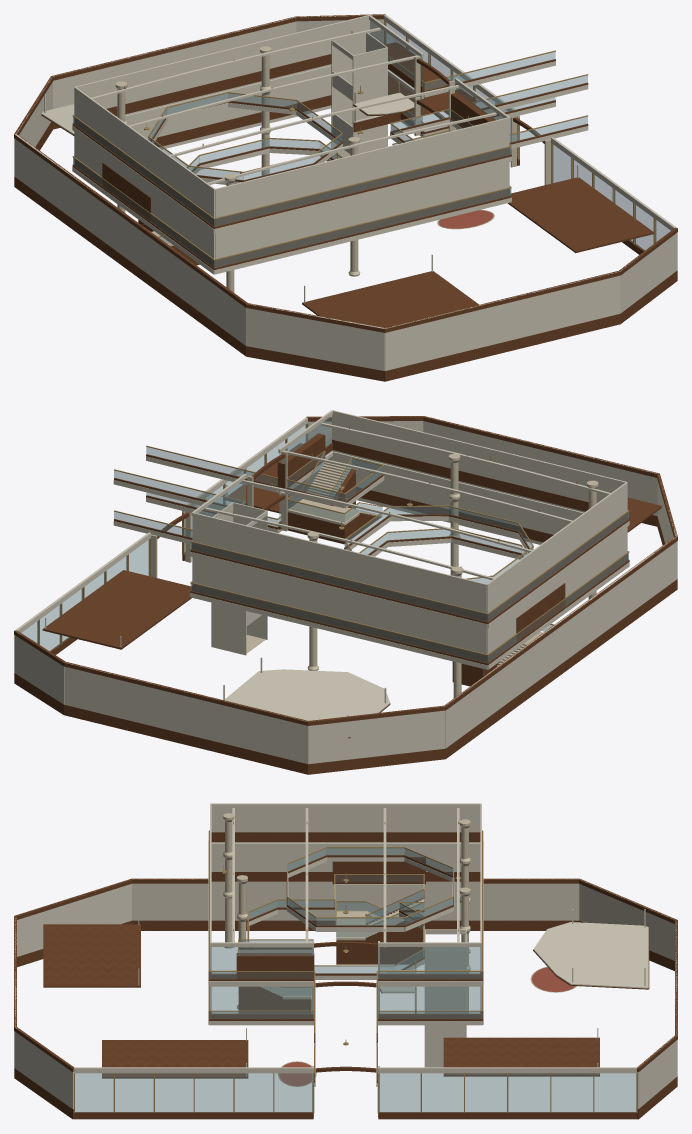
Rendered from AST-LIB-011.glb.
3 renders of one model, top to bottom at view 1: azimuth 30°, elevation 25°; view 2: azimuth 150°, elevation 25°; view 3: azimuth 270°, elevation 25°, orthographic. The views are drawn at different scales.
Parts seen in each view (by area): view 1: LIB_static_ivory_enamel, LIB_static_warm_walnut, LIB_static_glass, LIB_static_champagne_metal, LIB_static_warm_stone, LIB_finish_clay_weave; view 2: LIB_static_ivory_enamel, LIB_static_warm_walnut, LIB_static_glass, LIB_static_champagne_metal, LIB_static_warm_stone, LIB_steps_warm_stone; view 3: LIB_static_ivory_enamel, LIB_static_warm_walnut, LIB_static_glass, LIB_static_champagne_metal, LIB_static_warm_stone, LIB_finish_clay_weave, LIB_steps_warm_stone.
Boxes of the visible parts, box(x1,y1,x2,y2) form: LIB_static_ivory_enamel: box(14, 14, 677, 370); LIB_static_warm_walnut: box(14, 14, 677, 381); LIB_static_glass: box(73, 20, 670, 267); LIB_static_champagne_metal: box(72, 21, 656, 260); LIB_static_warm_stone: box(115, 46, 550, 292); LIB_finish_clay_weave: box(438, 210, 493, 228); LIB_static_ivory_enamel: box(14, 410, 677, 764); LIB_static_warm_walnut: box(14, 416, 677, 774); LIB_static_glass: box(21, 416, 628, 663); LIB_static_champagne_metal: box(37, 422, 629, 655); LIB_static_warm_stone: box(151, 450, 598, 697); LIB_steps_warm_stone: box(303, 462, 527, 666); LIB_static_ivory_enamel: box(14, 803, 677, 1109); LIB_static_warm_walnut: box(14, 832, 677, 1119); LIB_static_glass: box(75, 848, 636, 1112); LIB_static_champagne_metal: box(74, 821, 637, 1113); LIB_static_warm_stone: box(223, 813, 470, 1117); LIB_finish_clay_weave: box(279, 967, 575, 1086); LIB_steps_warm_stone: box(260, 899, 423, 996).
Bounding box in the file's own units: 49.99 × 15 × 67.99.
Materials: 8 (6 with a texture image).
